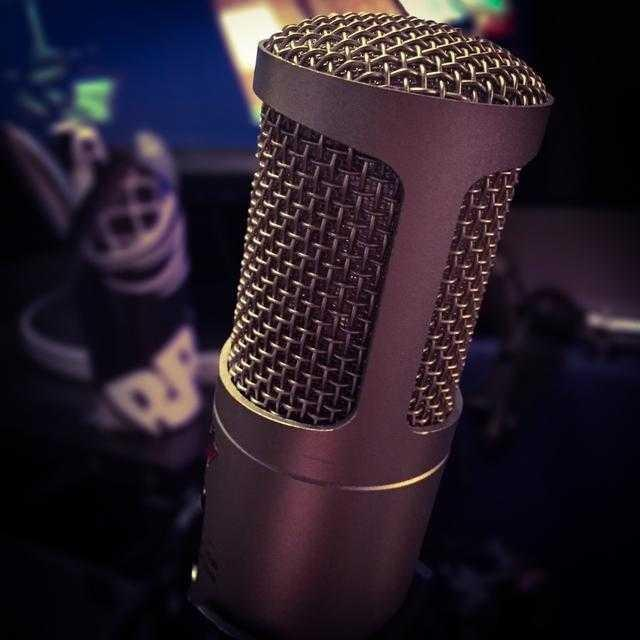microphone: (201, 19, 554, 630)
